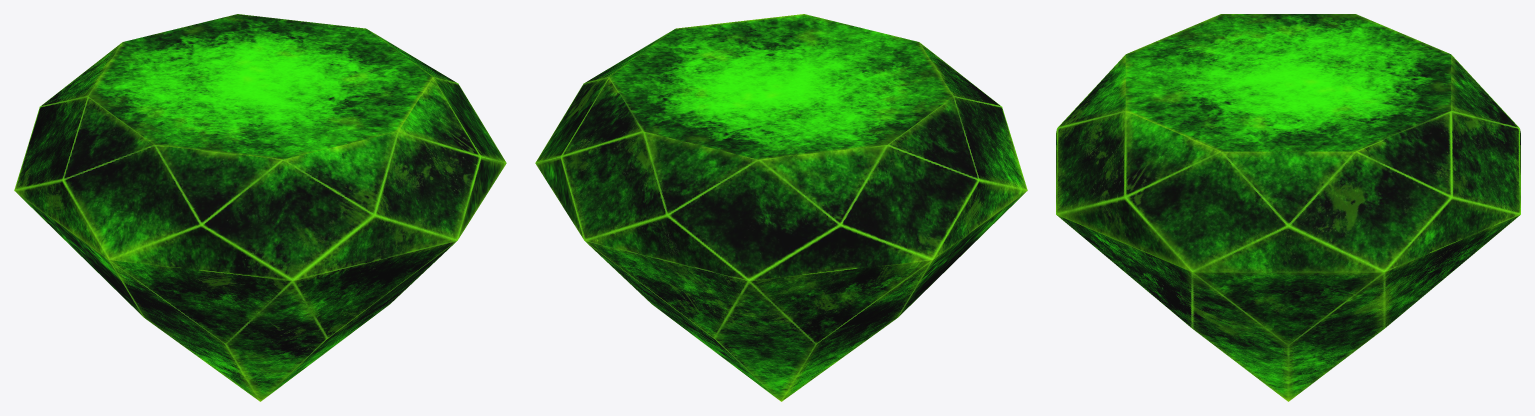
Rendered from master_emerald_movie_sonic_movie_2.glb.
3 views of the same model, side by side, from view 1: azimuth 30°, elevation 25°; view 2: azimuth 150°, elevation 25°; view 3: azimuth 270°, elevation 25° (orthographic).
Visible parts, largest first — view 1: Master_0; view 2: Master_0; view 3: Master_0.
Part boxes in pixels (box(x1,y1,x2,y2)): Master_0: box(14, 14, 506, 401); Master_0: box(535, 14, 1027, 401); Master_0: box(1056, 14, 1520, 401).
Size of the model in its own units: 2 by 1.52 by 2.
Materials: 1 (1 with a texture image).
